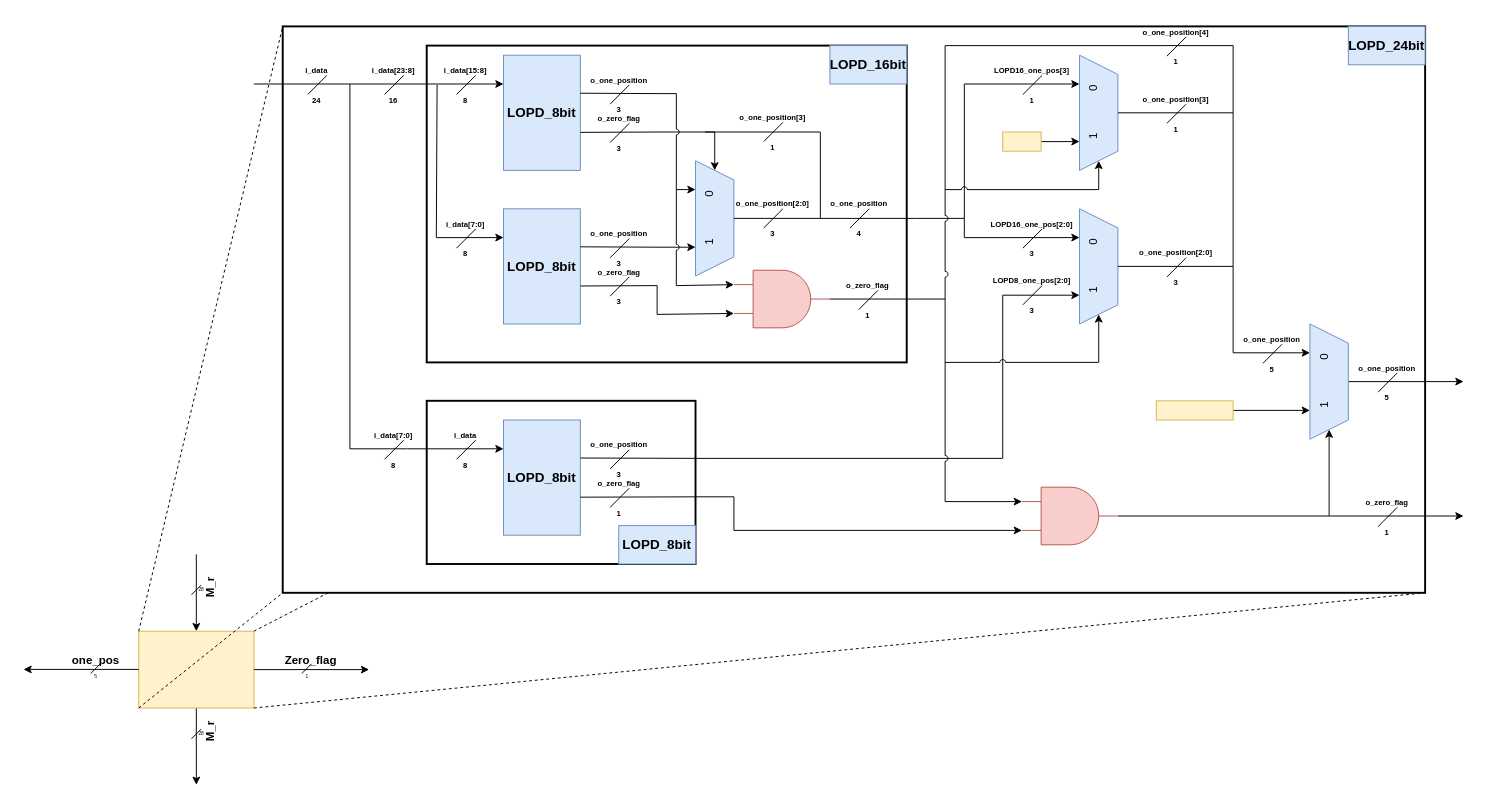
This 1488x809 diagram has some shape labels left out. The box of each missing label's shape, as (x1, y1, x2, y2) in pixels:
1'b0: (1002, 131, 1041, 151)
5'b11111: (1155, 400, 1233, 420)
LOPD: (138, 630, 254, 708)
